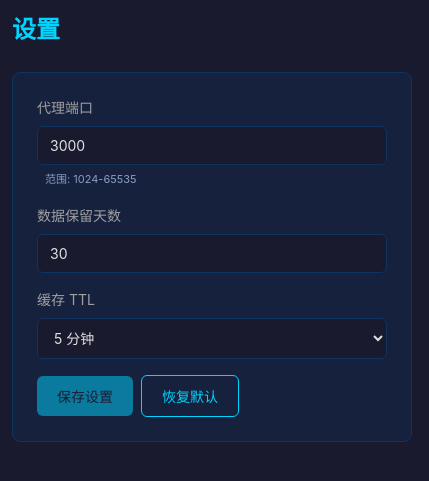
Test: Settings › 天数 <7 显示警告
Step 1. Replace the text in the number field labelled "数据保留天数" with "3" → {"x": 212, "y": 254}, box [37, 234, 387, 273]
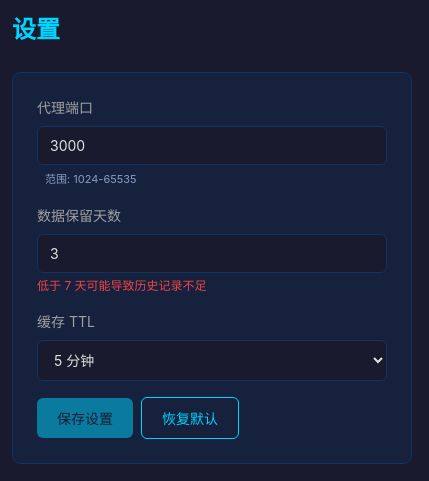
Now the text "低于 7 天可能导致历史记录不足" is shown, box [37, 278, 206, 293]
